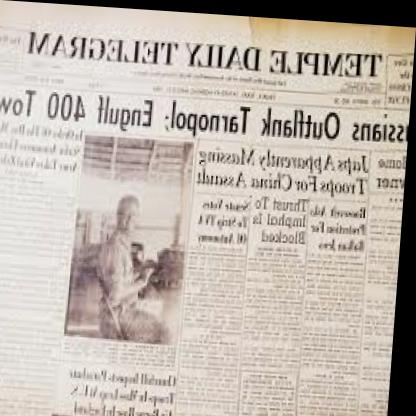Paper: (0, 6, 410, 416)
